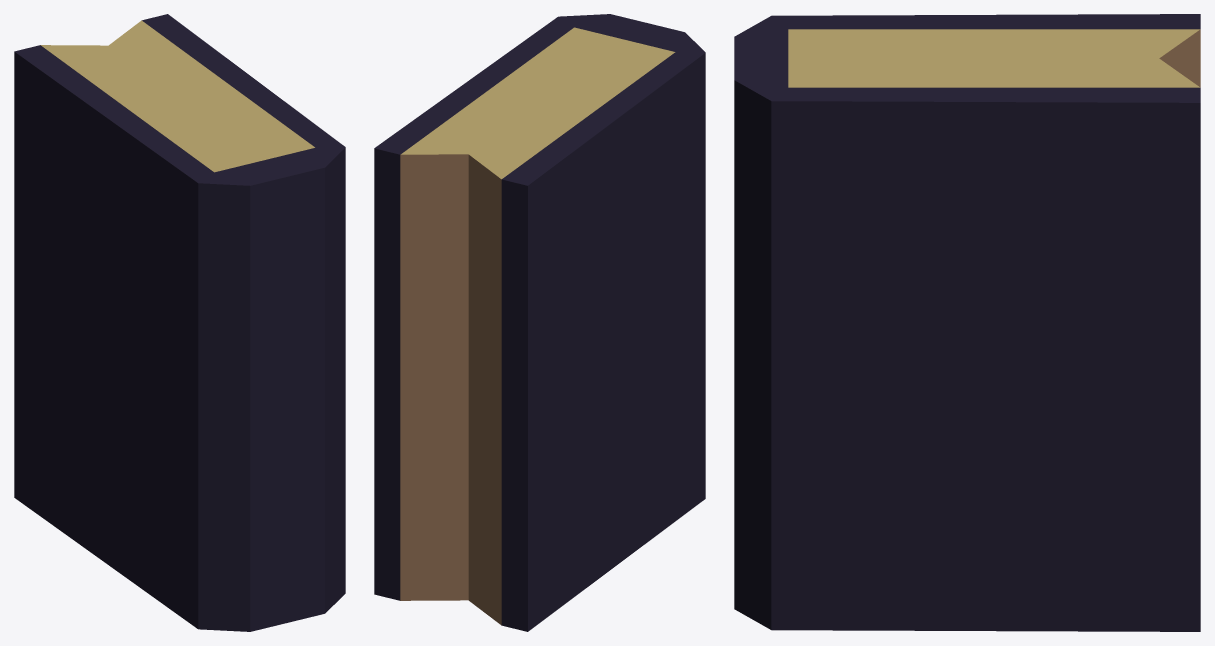
File: TB_D_Prop_Book_Small_D.FBX
The picture shows the model from 3 angles, left to right: view 1: azimuth 30°, elevation 25°; view 2: azimuth 150°, elevation 25°; view 3: azimuth 270°, elevation 25°; orthographic projection. The views are drawn at different scales.
Visible parts, largest first — view 1: TB_D_Prop_Book_Small_D; view 2: TB_D_Prop_Book_Small_D; view 3: TB_D_Prop_Book_Small_D.
Boxes of the visible parts, x1,y1,x2,y2 form: TB_D_Prop_Book_Small_D: (14, 14, 345, 631); TB_D_Prop_Book_Small_D: (374, 14, 705, 631); TB_D_Prop_Book_Small_D: (734, 14, 1200, 631).
Bounding box in the file's own units: 0.182 × 0.5049 × 0.4035.
